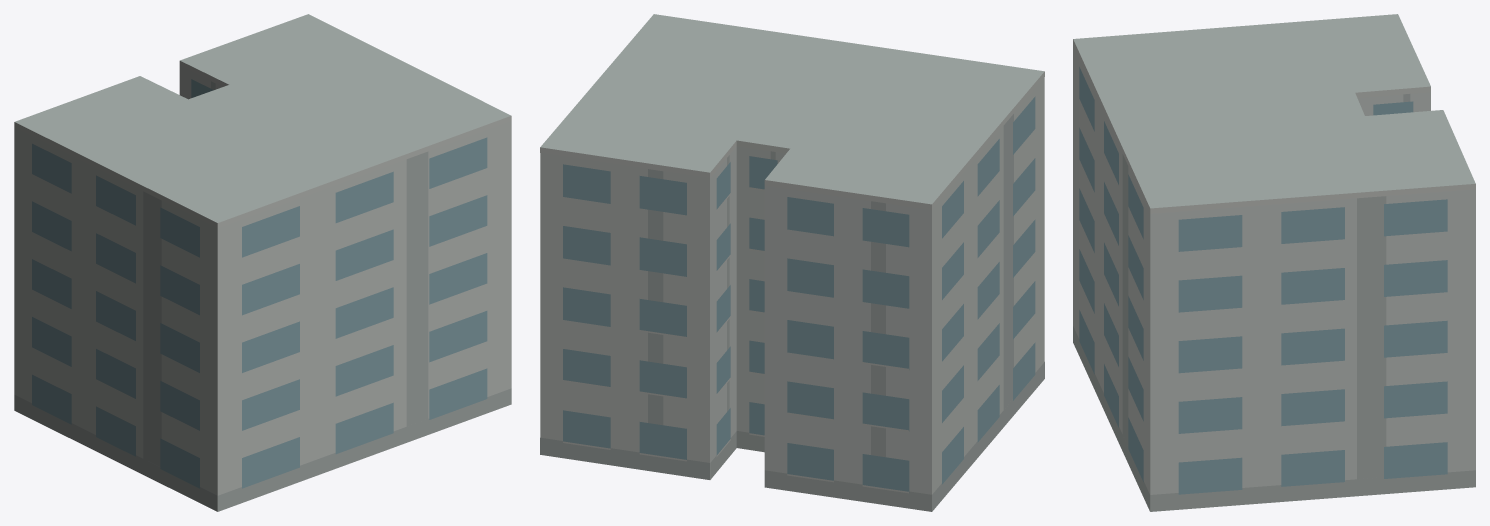
Rendered from survey-upis-32881640.glb.
3 renders of one model, left to right at view 1: azimuth 30°, elevation 25°; view 2: azimuth 150°, elevation 25°; view 3: azimuth 270°, elevation 25°, orthographic. The views are drawn at different scales.
Parts seen in each view (by area): view 1: survey-upis-32881640.tmp; view 2: survey-upis-32881640.tmp; view 3: survey-upis-32881640.tmp.
Part boxes in pixels (<box>): survey-upis-32881640.tmp: <box>14,14,511,511</box>; survey-upis-32881640.tmp: <box>540,14,1044,511</box>; survey-upis-32881640.tmp: <box>1073,14,1475,511</box>.
Bounding box in the file's own units: 18.28 × 13.3 × 16.01.
